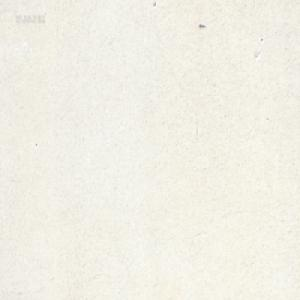Nail: (198, 23, 205, 28)
